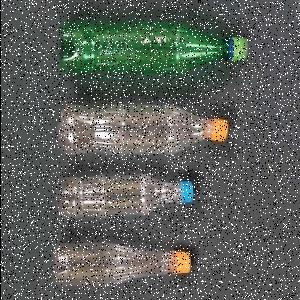Plastic-bottle: (58, 22, 248, 74), (55, 104, 231, 158), (51, 242, 192, 288), (55, 175, 195, 219)
